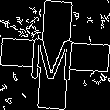M_N: (30, 28, 80, 82)
